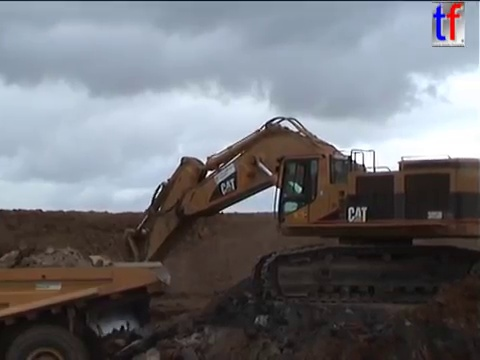excavator: (64, 114, 479, 342)
truck: (1, 255, 174, 360)
